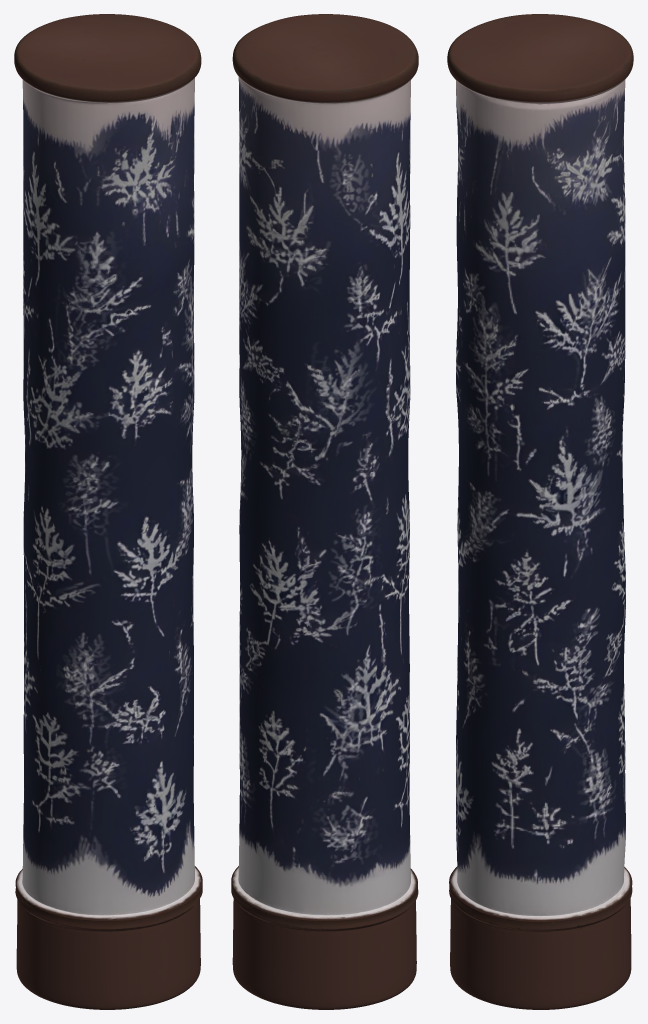
File: screenshot-2026-06-29-181834-png.glb
The picture shows the model from 3 angles, left to right: view 1: azimuth 30°, elevation 25°; view 2: azimuth 150°, elevation 25°; view 3: azimuth 270°, elevation 25°; orthographic projection.
Visible parts, largest first — view 1: tripo_node_0ff623a7-f841-4684-a819-e04403557cee; view 2: tripo_node_0ff623a7-f841-4684-a819-e04403557cee; view 3: tripo_node_0ff623a7-f841-4684-a819-e04403557cee.
Boxes of the visible parts, x1,y1,x2,y2 form: tripo_node_0ff623a7-f841-4684-a819-e04403557cee: [14, 14, 202, 1009]; tripo_node_0ff623a7-f841-4684-a819-e04403557cee: [231, 14, 418, 1009]; tripo_node_0ff623a7-f841-4684-a819-e04403557cee: [447, 14, 633, 1009].
Bounding box in the file's own units: 0.1398 × 0.75 × 0.1375.
1 material, 1 textured.
